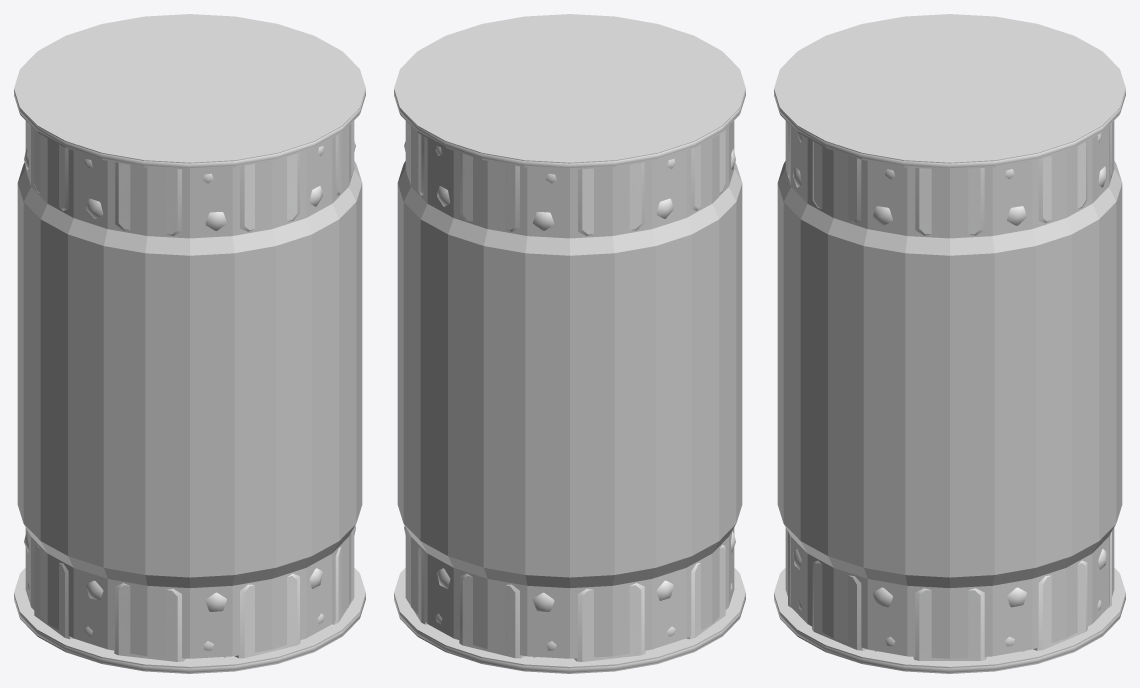
The model's file is greenhouse.fbx.
3 views of the same model, side by side, from view 1: azimuth 30°, elevation 25°; view 2: azimuth 150°, elevation 25°; view 3: azimuth 270°, elevation 25° (orthographic).
Visible parts, largest first — view 1: col_GR-Main, col_top, GreenHouse, col_bottom; view 2: col_GR-Main, col_top, GreenHouse, col_bottom; view 3: col_GR-Main, col_top, GreenHouse, col_bottom.
Part boxes in pixels (left/top/right/bottom): col_GR-Main: left=17, top=121, right=362, bottom=658; col_top: left=14, top=14, right=365, bottom=169; GreenHouse: left=14, top=90, right=365, bottom=672; col_bottom: left=14, top=568, right=365, bottom=673; col_GR-Main: left=397, top=121, right=742, bottom=658; col_top: left=394, top=14, right=745, bottom=169; GreenHouse: left=394, top=90, right=745, bottom=672; col_bottom: left=394, top=568, right=745, bottom=673; col_GR-Main: left=777, top=121, right=1122, bottom=658; col_top: left=774, top=14, right=1125, bottom=169; GreenHouse: left=774, top=90, right=1125, bottom=672; col_bottom: left=774, top=568, right=1125, bottom=673.
Bounding box in the file's own units: 250 × 250 × 401.
